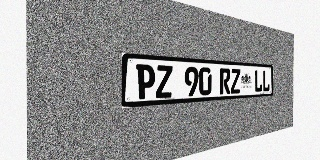0: (199, 67, 211, 96)
9: (185, 66, 199, 96)
L: (254, 70, 262, 92), (262, 70, 270, 92)
P: (136, 64, 155, 99)
R: (220, 68, 230, 94)
Z: (156, 65, 173, 98), (231, 69, 240, 94)
